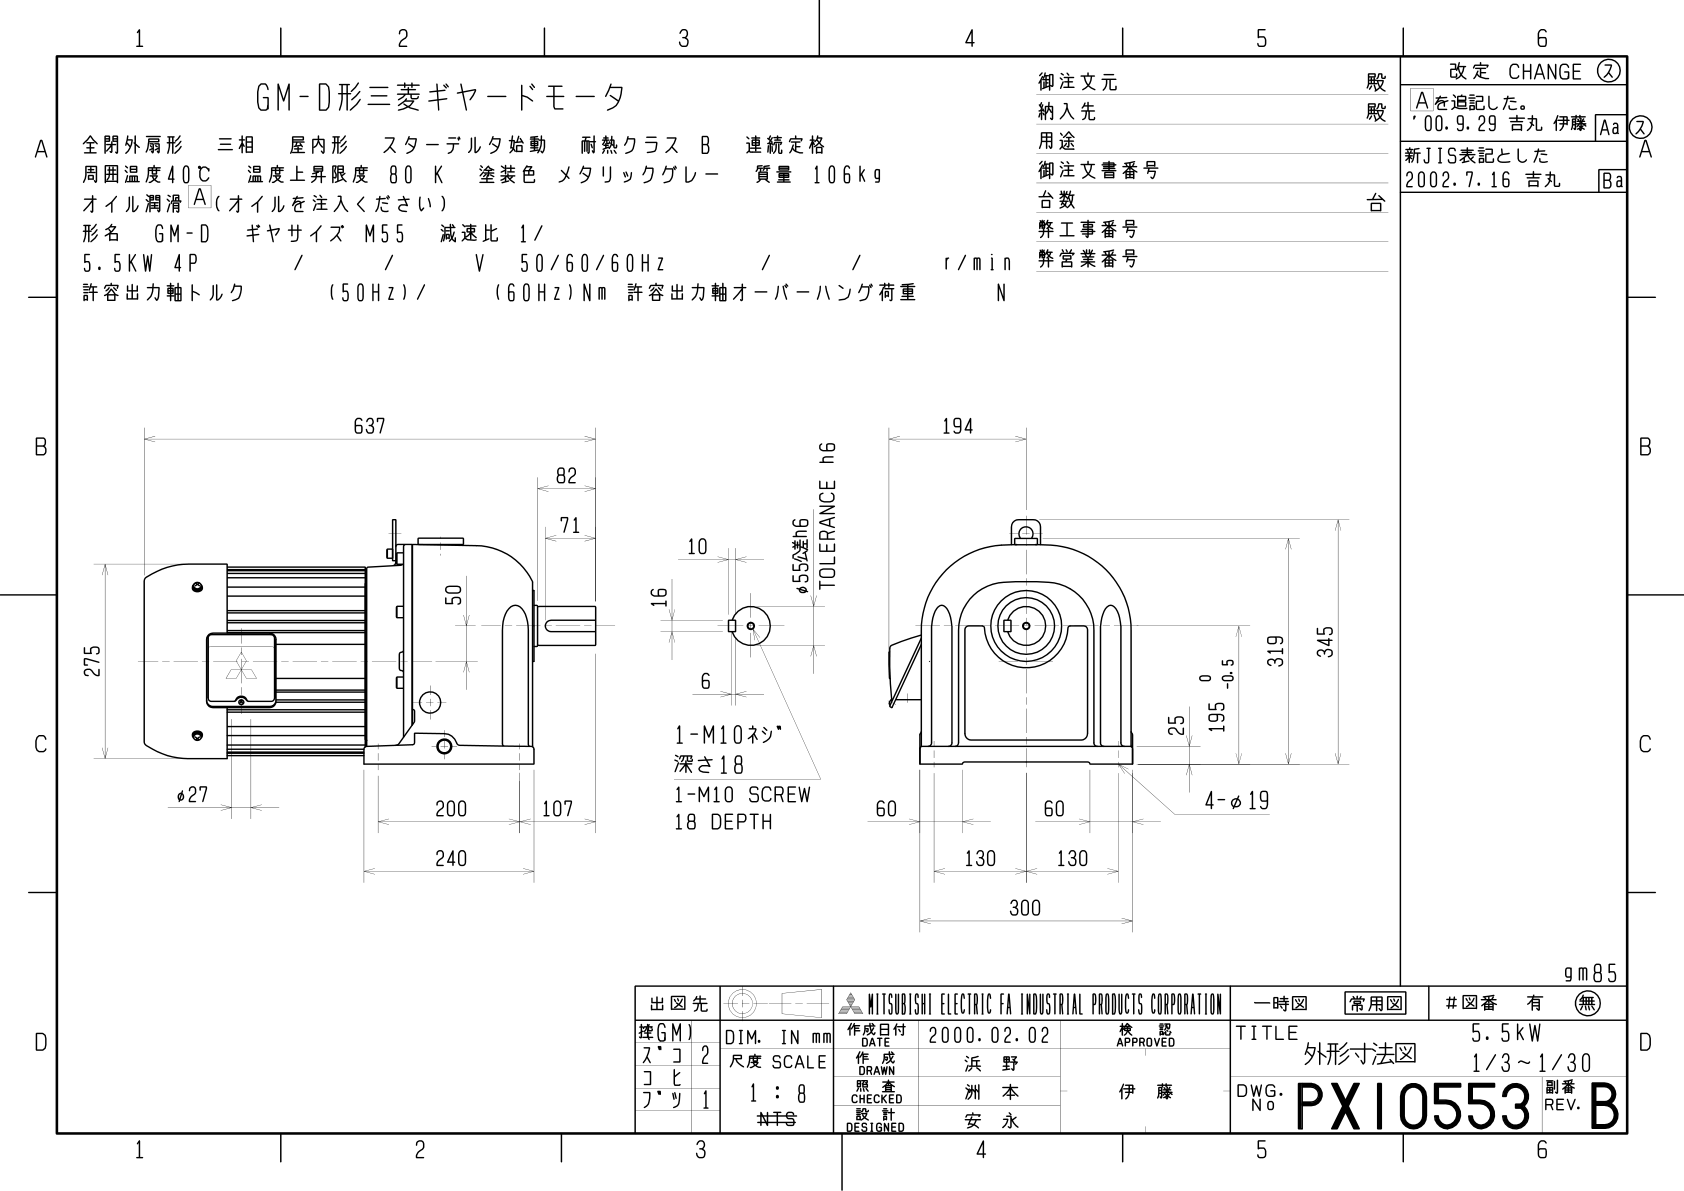GM_D_屋内＿三相_脚: (75, 360, 1377, 949)
